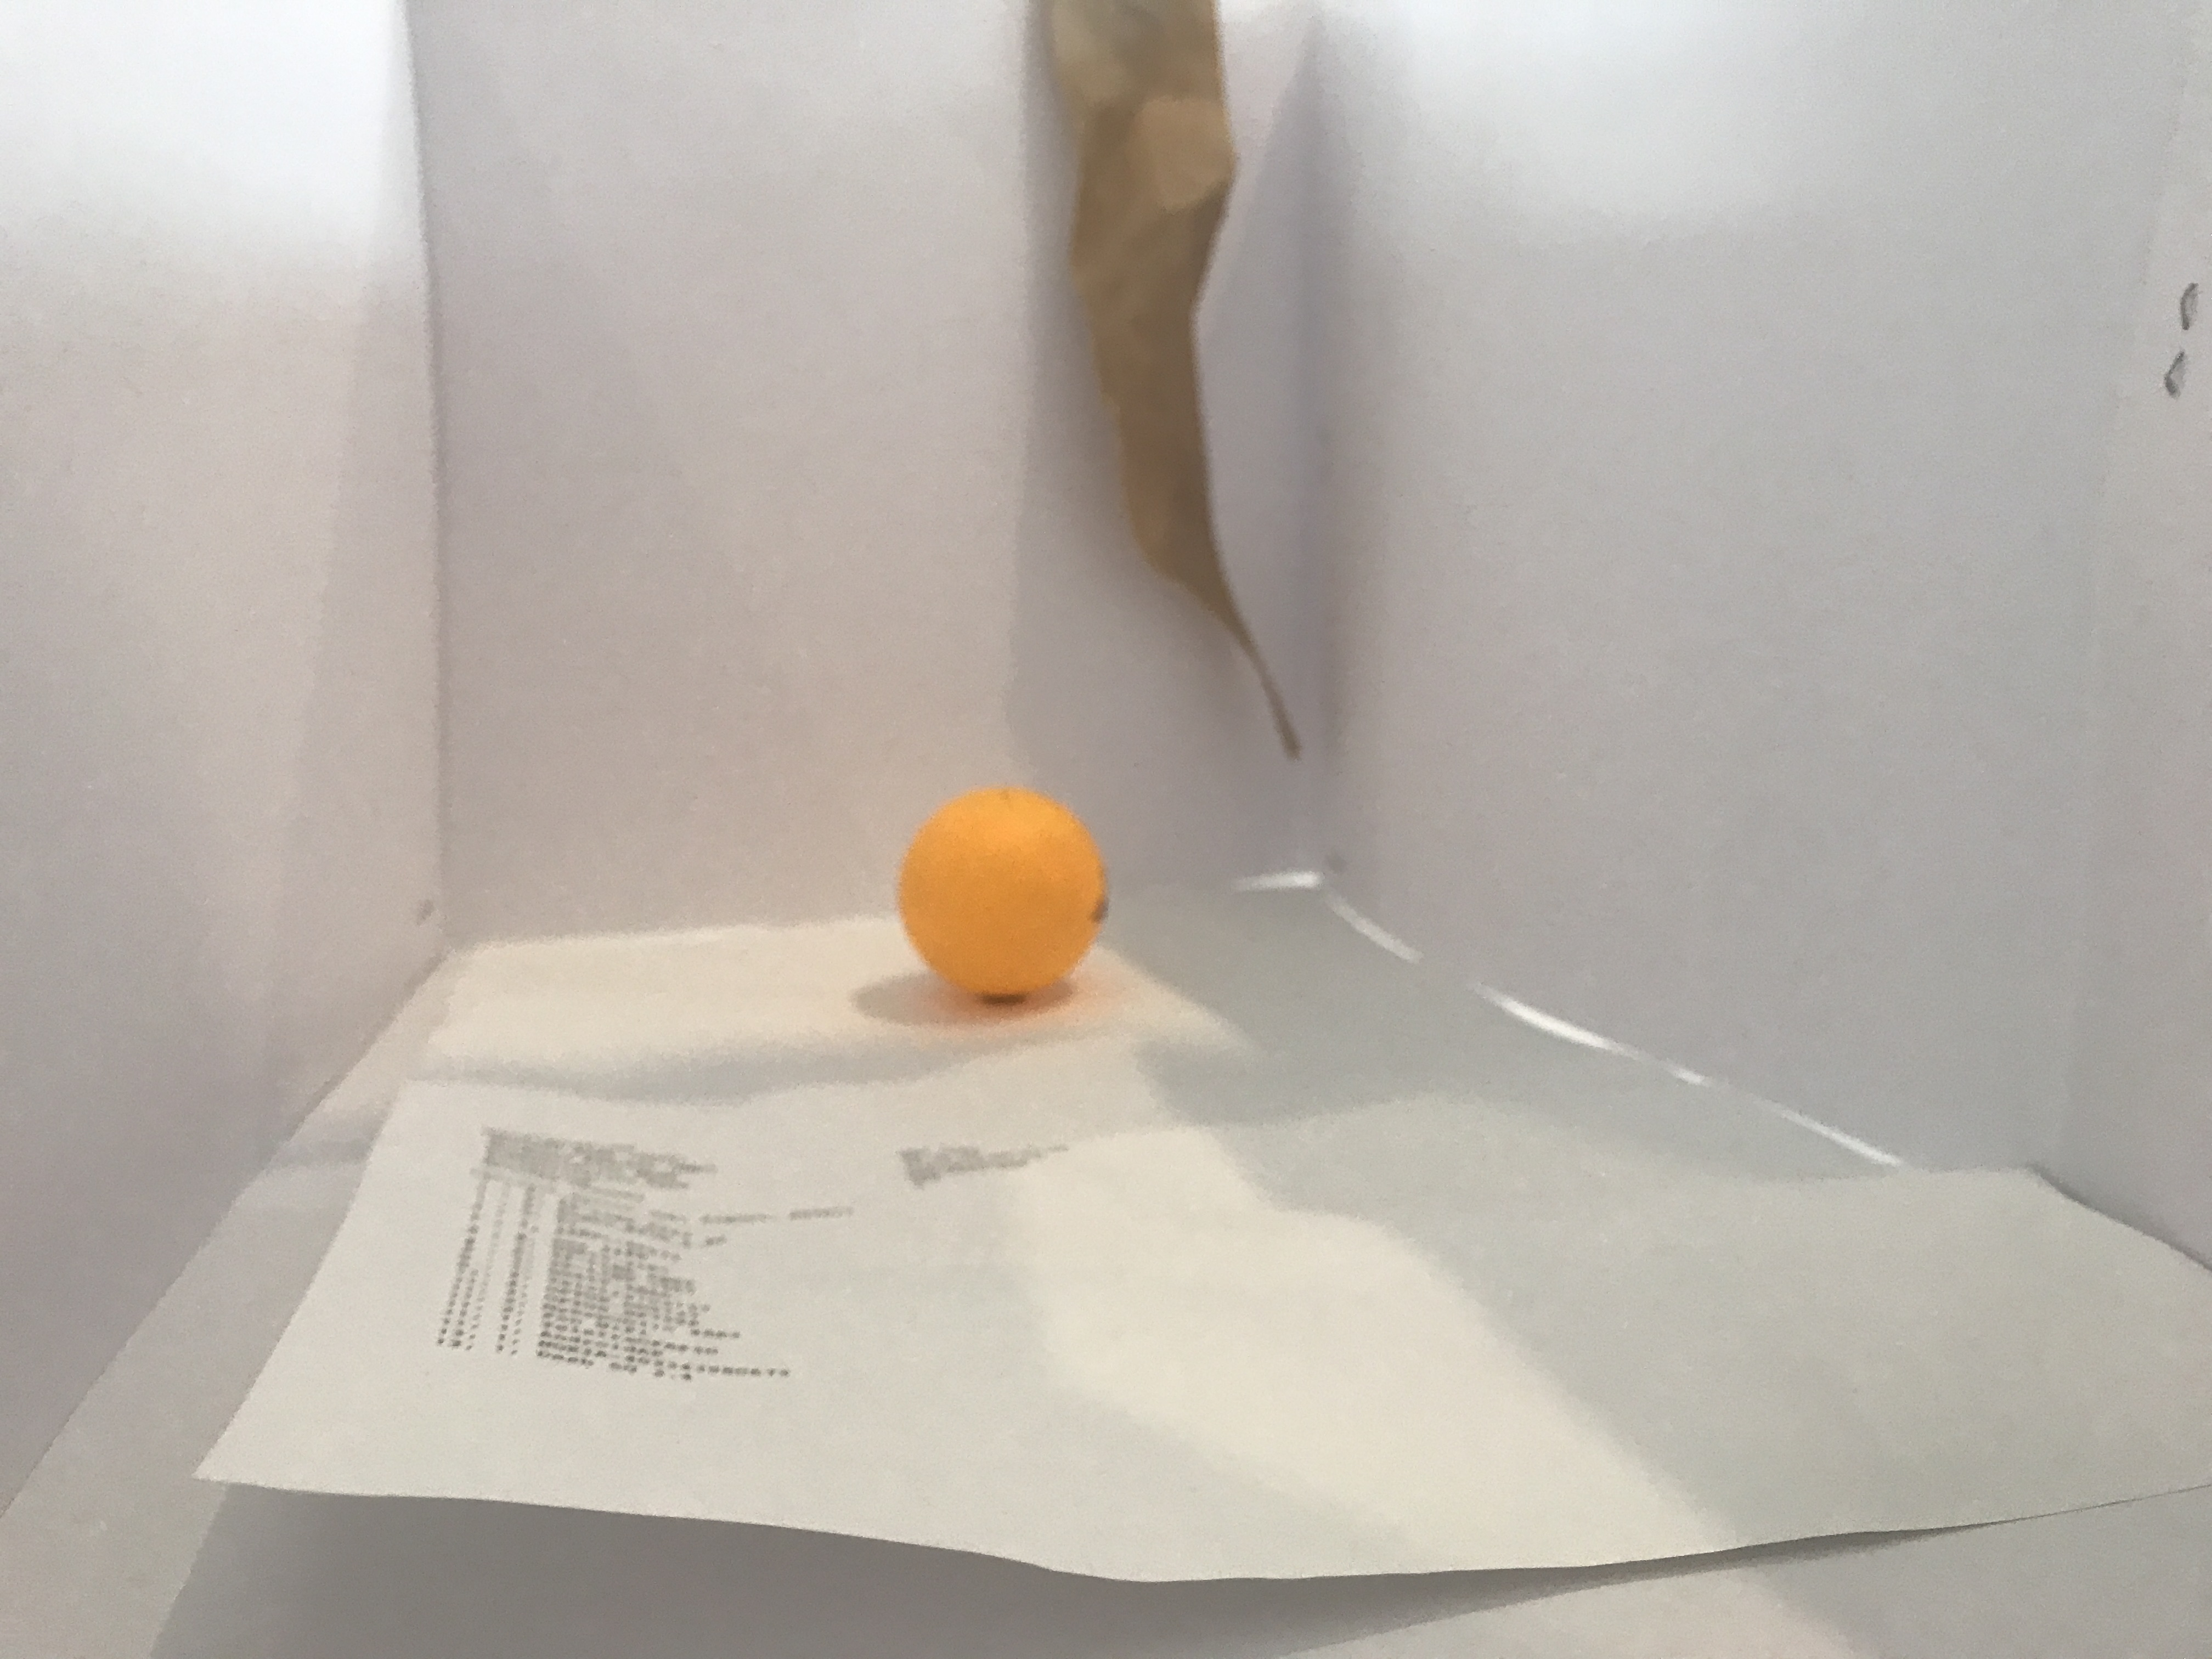pp: (897, 786, 1109, 1016)
